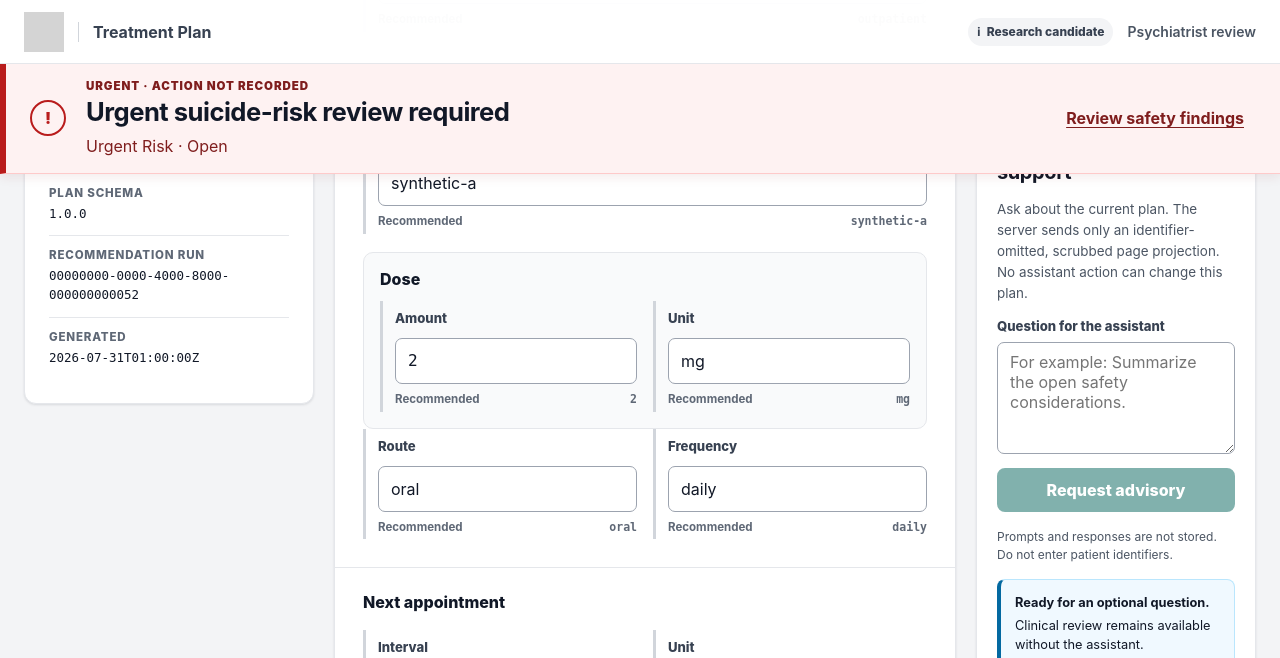
Test: psychiatrist review screen › loads the authenticated plan and keeps urgent findings visible during a structured edit
(page scrolled)
Check: the message "Urgent suicide-risk review required" shows "action not recorded", box [86, 79, 309, 93]
Replace the text in the number field labelled "Amount" with "4": (516, 361) [395, 338, 637, 384]
(page scrolled)
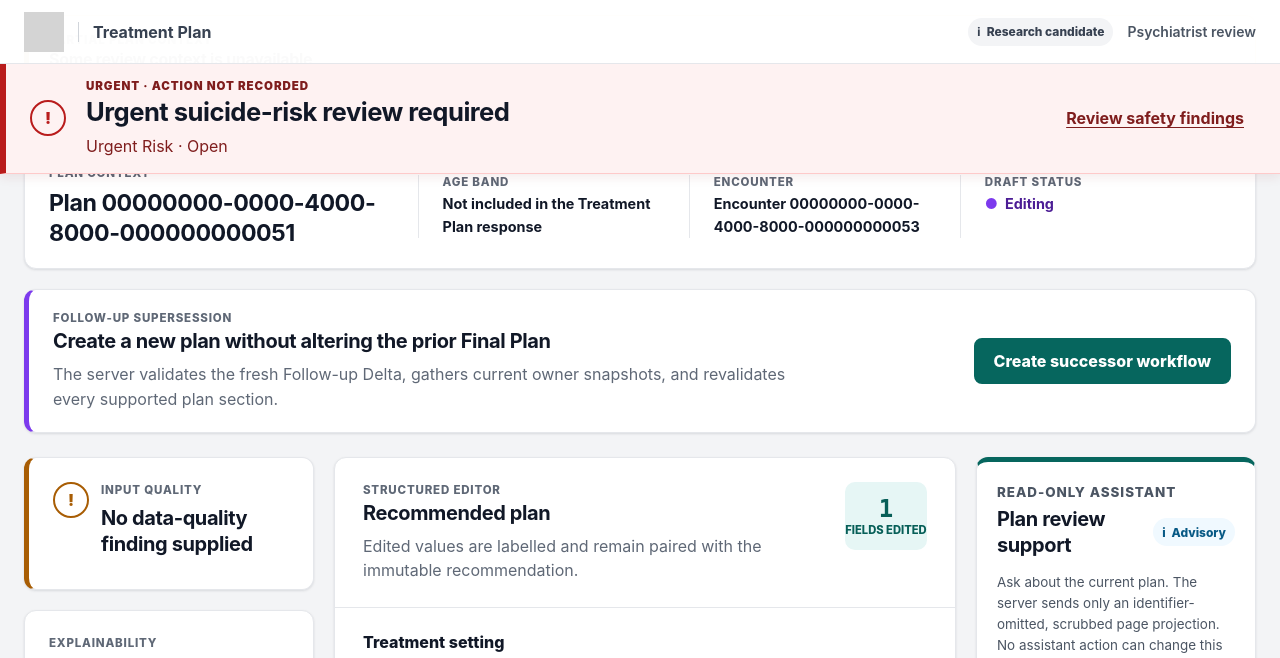
Check: the message "Urgent suicide-risk review required" is shown, box [86, 96, 510, 127]
Click the button "Create successor workflow": click(1102, 361) [974, 338, 1231, 384]
(page scrolled)
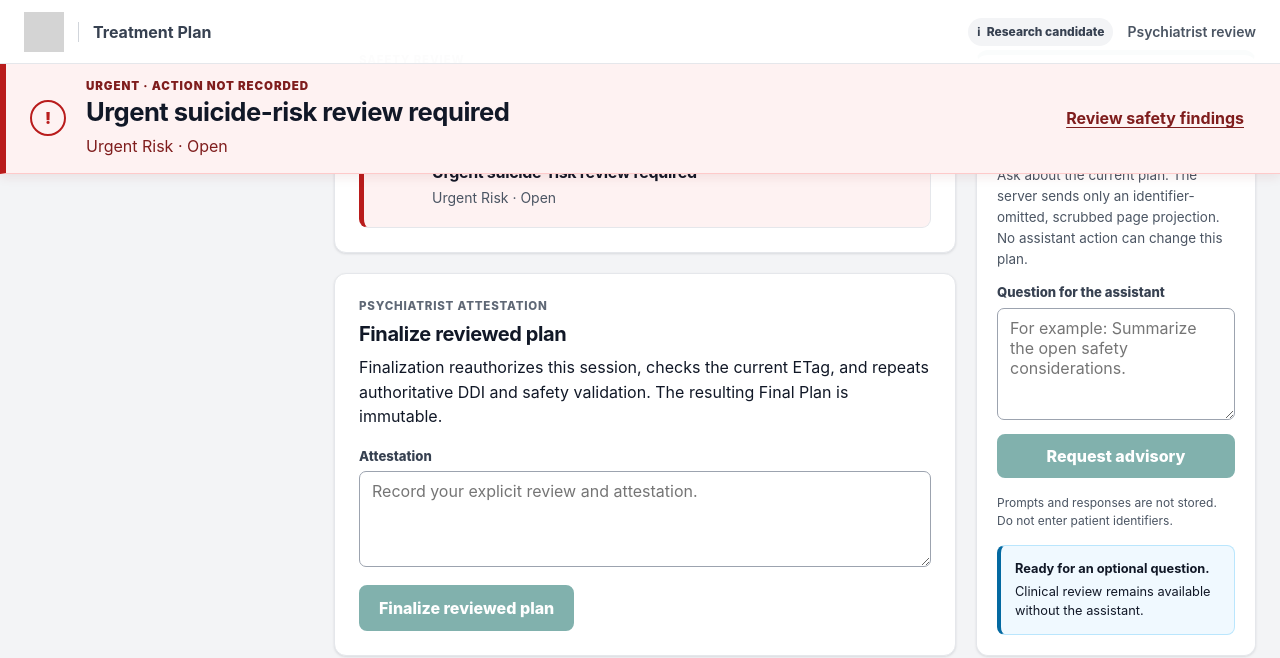
In the text box labelled "Attestation": (645, 519) [359, 471, 931, 567], type "I reviewed and attest to this exact plan."
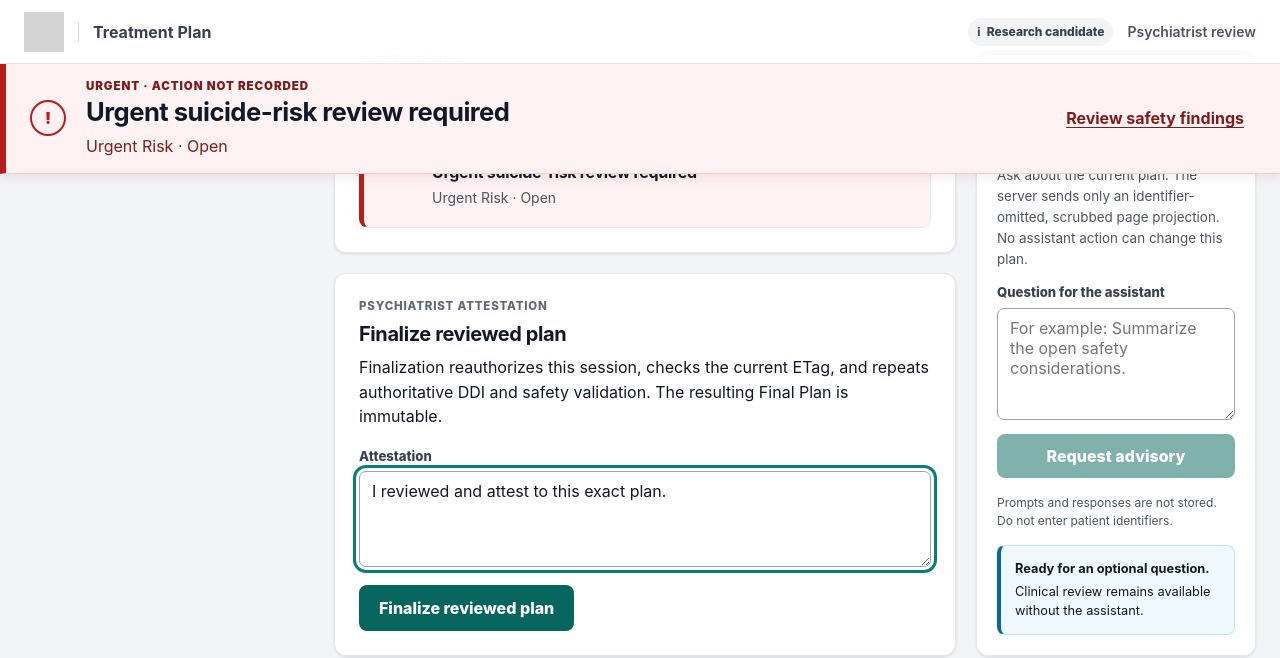
Click the button "Finalize reviewed plan": click(467, 608) [359, 585, 574, 631]
(page scrolled)
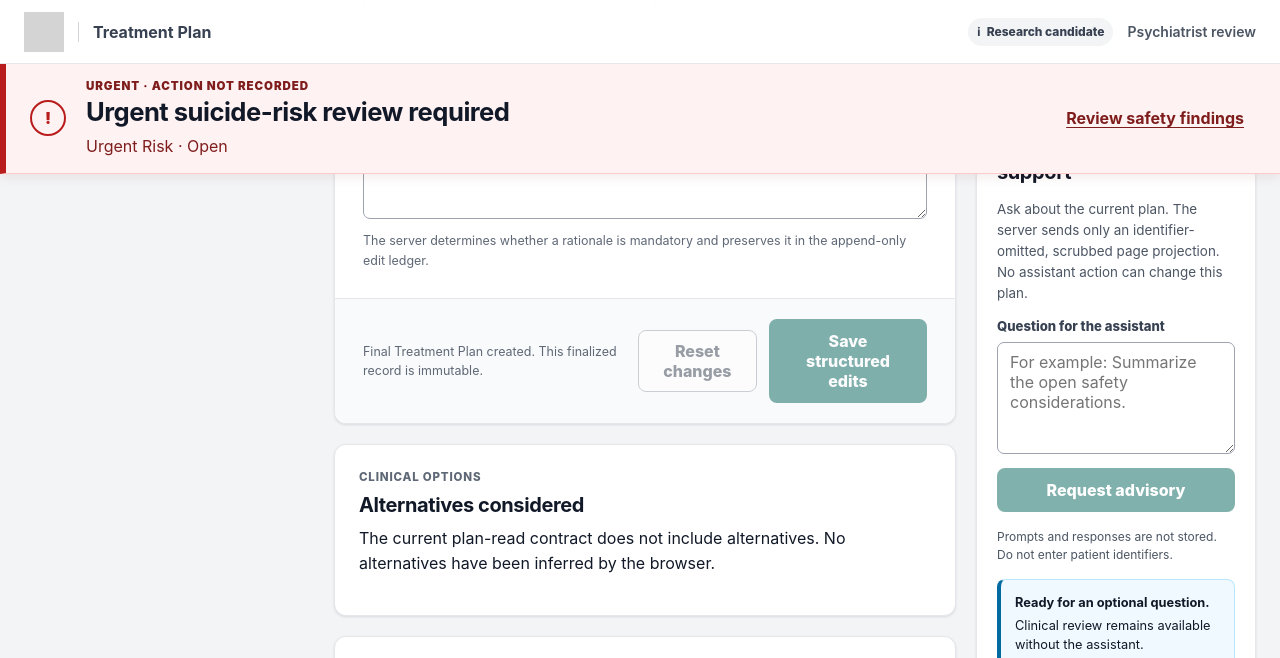
Check: the text "Final Treatment Plan created. This finalized record is immutable." is shown, box [363, 342, 626, 380]
